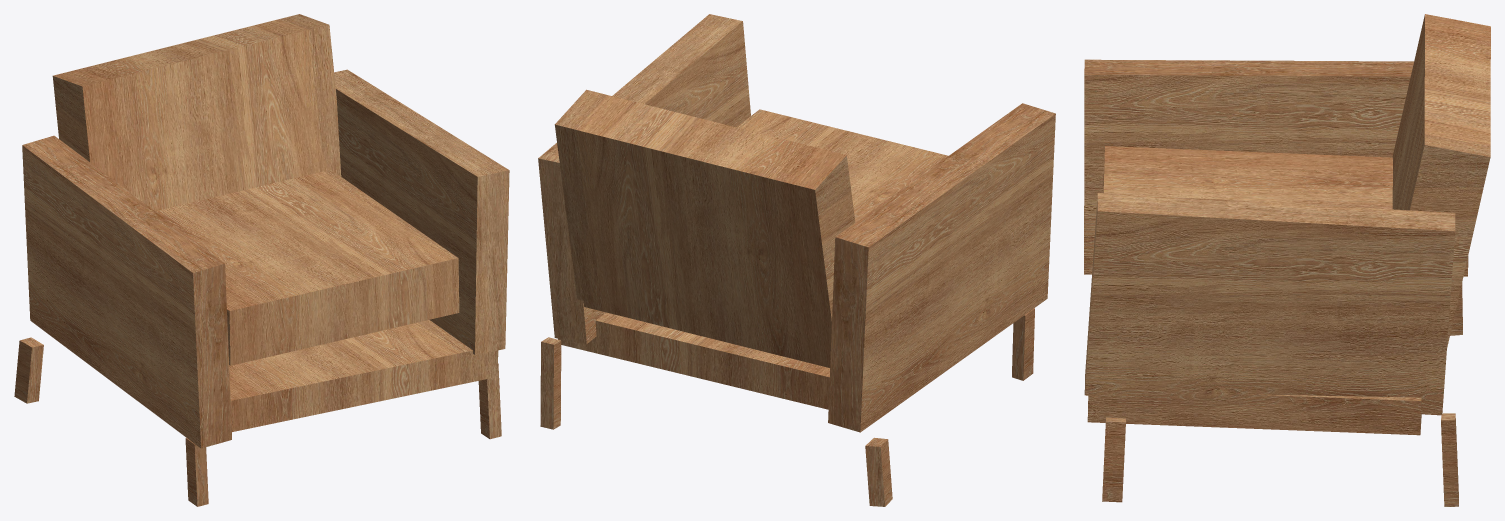
The model's file is 44319_ours.glb.
3 renders of one model, left to right at view 1: azimuth 30°, elevation 25°; view 2: azimuth 150°, elevation 25°; view 3: azimuth 270°, elevation 25°, orthographic. The views are drawn at different scales.
Visible parts, largest first — view 1: ParentEmpty; view 2: ParentEmpty; view 3: ParentEmpty.
Part boxes in pixels (box(x1,y1,x2,y2)): ParentEmpty: box(14, 14, 509, 506); ParentEmpty: box(538, 14, 1055, 506); ParentEmpty: box(1084, 14, 1490, 506).
Size of the model in its own units: 1 by 0.9098 by 0.9659.
1 material, 1 textured.
